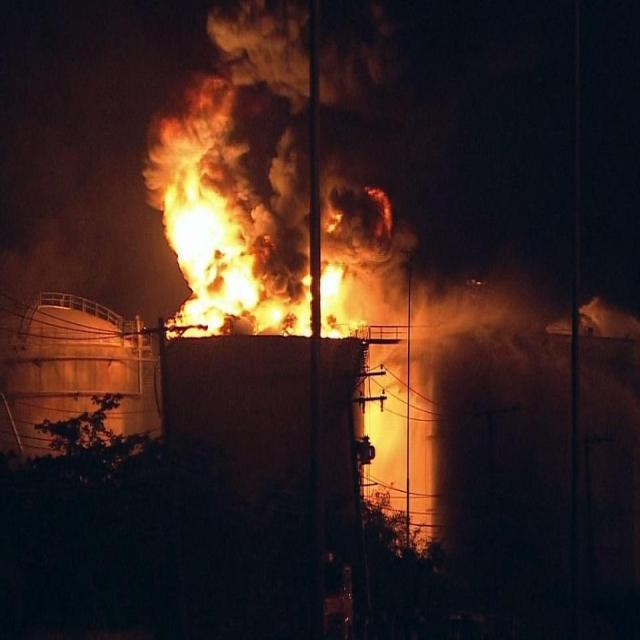Fire: (155, 178, 315, 334), (368, 352, 432, 548), (322, 258, 362, 334)
Smoke: (125, 5, 402, 196), (364, 266, 548, 341), (317, 198, 402, 264)
